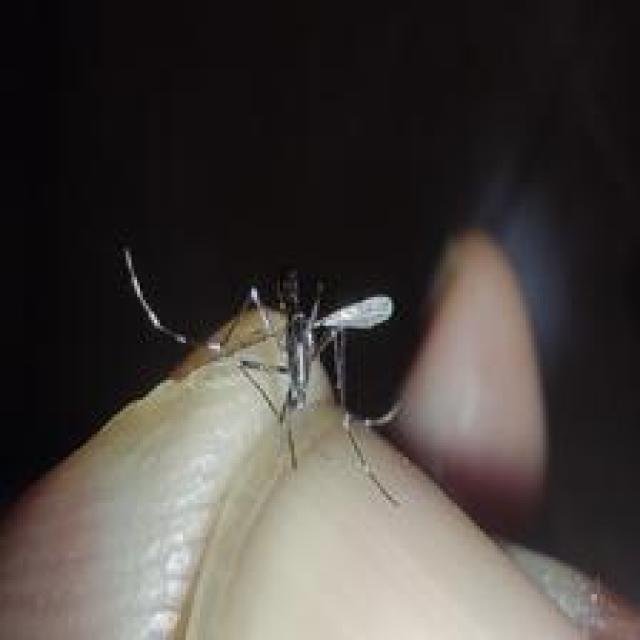Aedes albopictus: (119, 244, 410, 507)
